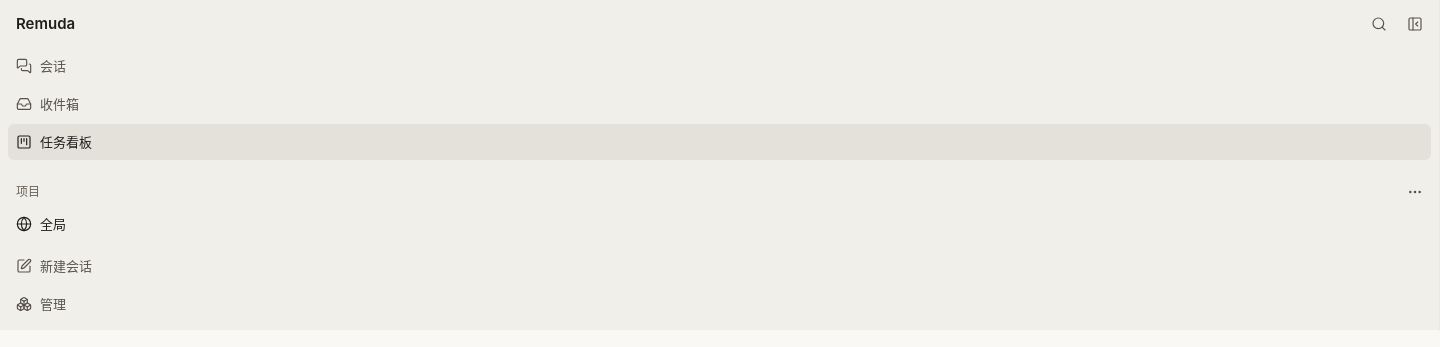
Test: Sidebar (UO-2a) › reaches /fleet from the 管理 menu
The width and height of the screenshot is (1440, 347).
Click the button "管理": click(24, 304) left=8, top=286, right=1431, bottom=322
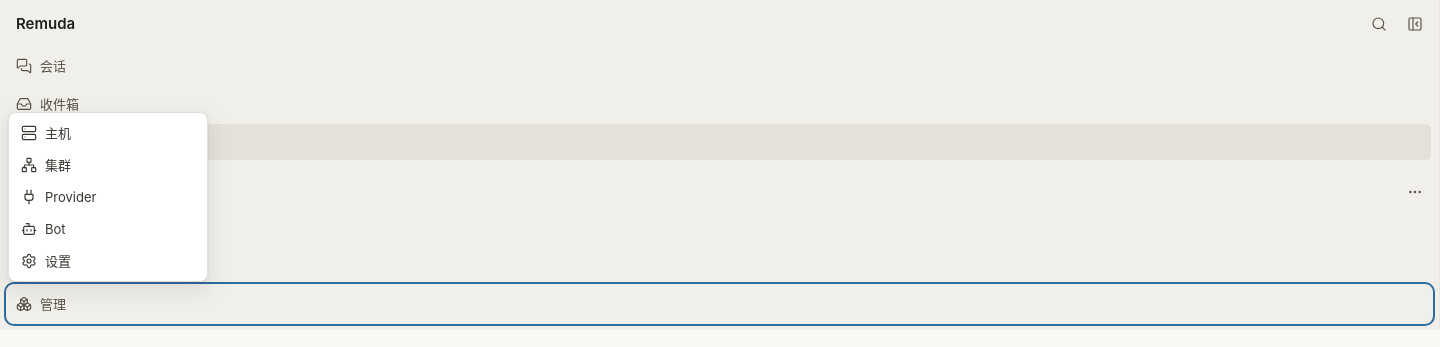
Now the menu items read "主机", "集群", "Provider", "Bot", "设置", in this order, box left=21, top=124, right=71, bottom=141; left=21, top=156, right=71, bottom=173; left=21, top=188, right=96, bottom=205; left=21, top=220, right=66, bottom=237; left=21, top=252, right=71, bottom=269
